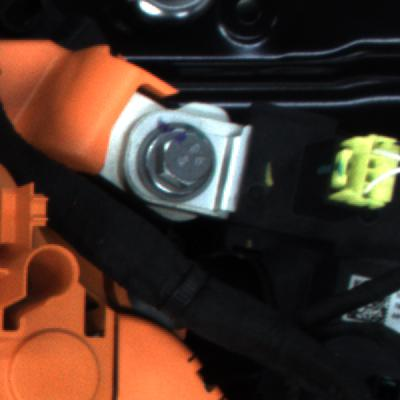nut_b: (132, 117, 223, 203)
